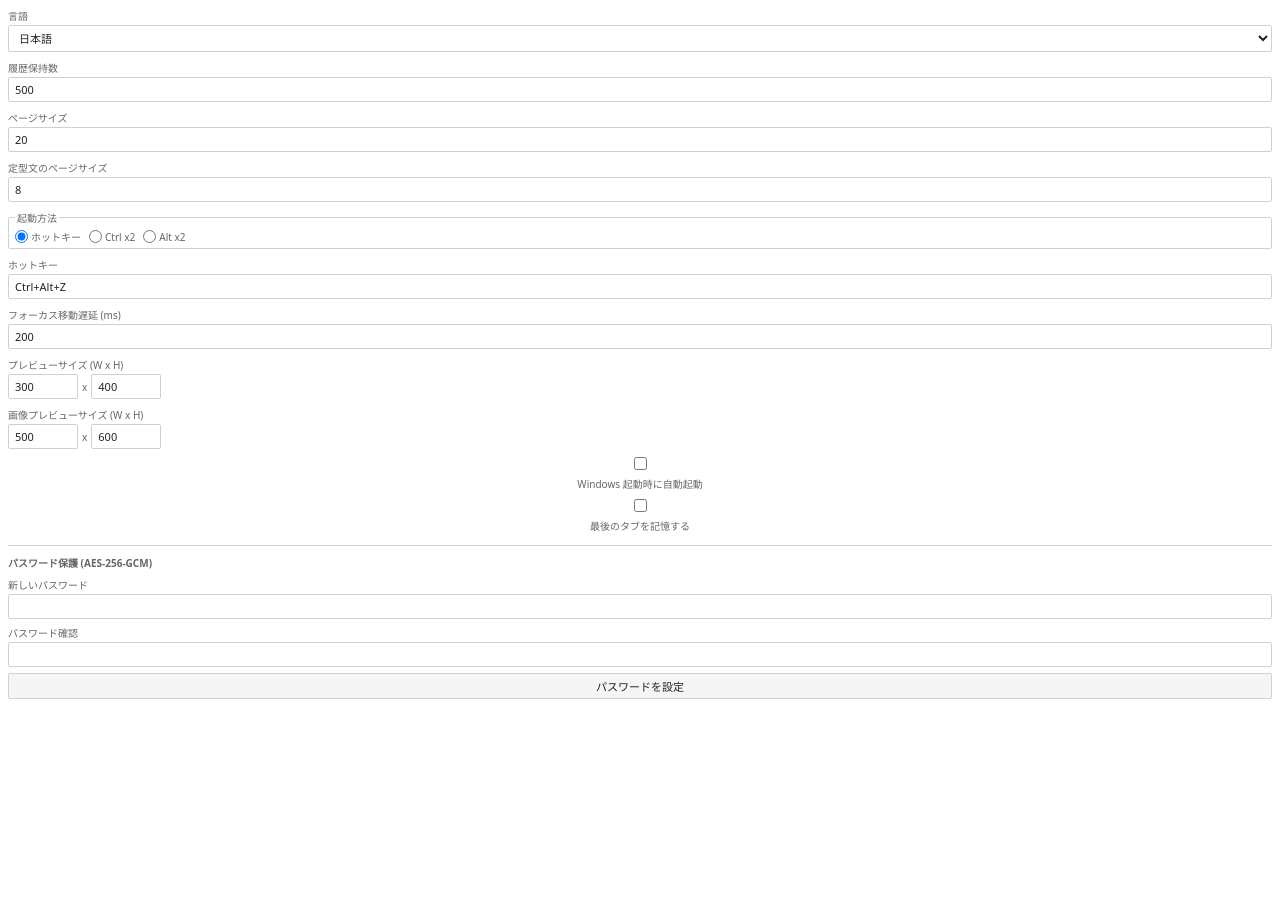
SettingsView › password flow when requirePassword=false › shows error when passwords do not match
The width and height of the screenshot is (1280, 900).
# New password
In the password field labelled "新しいパスワード": [640, 606] box [8,594,1272,619], type "abc123"
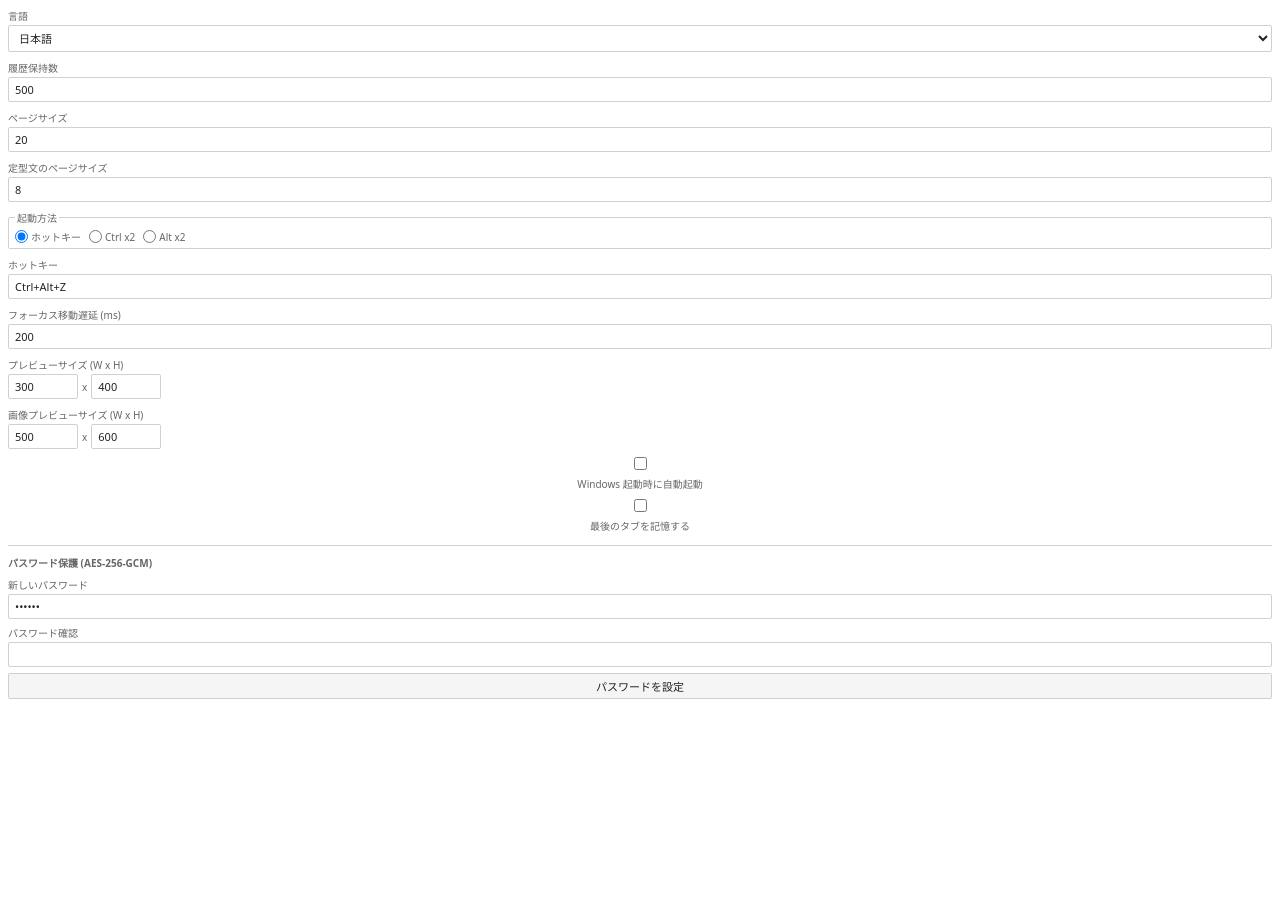
# Confirm password
In the password field labelled "パスワード確認": [640, 654] box [8,642,1272,667], type "different"
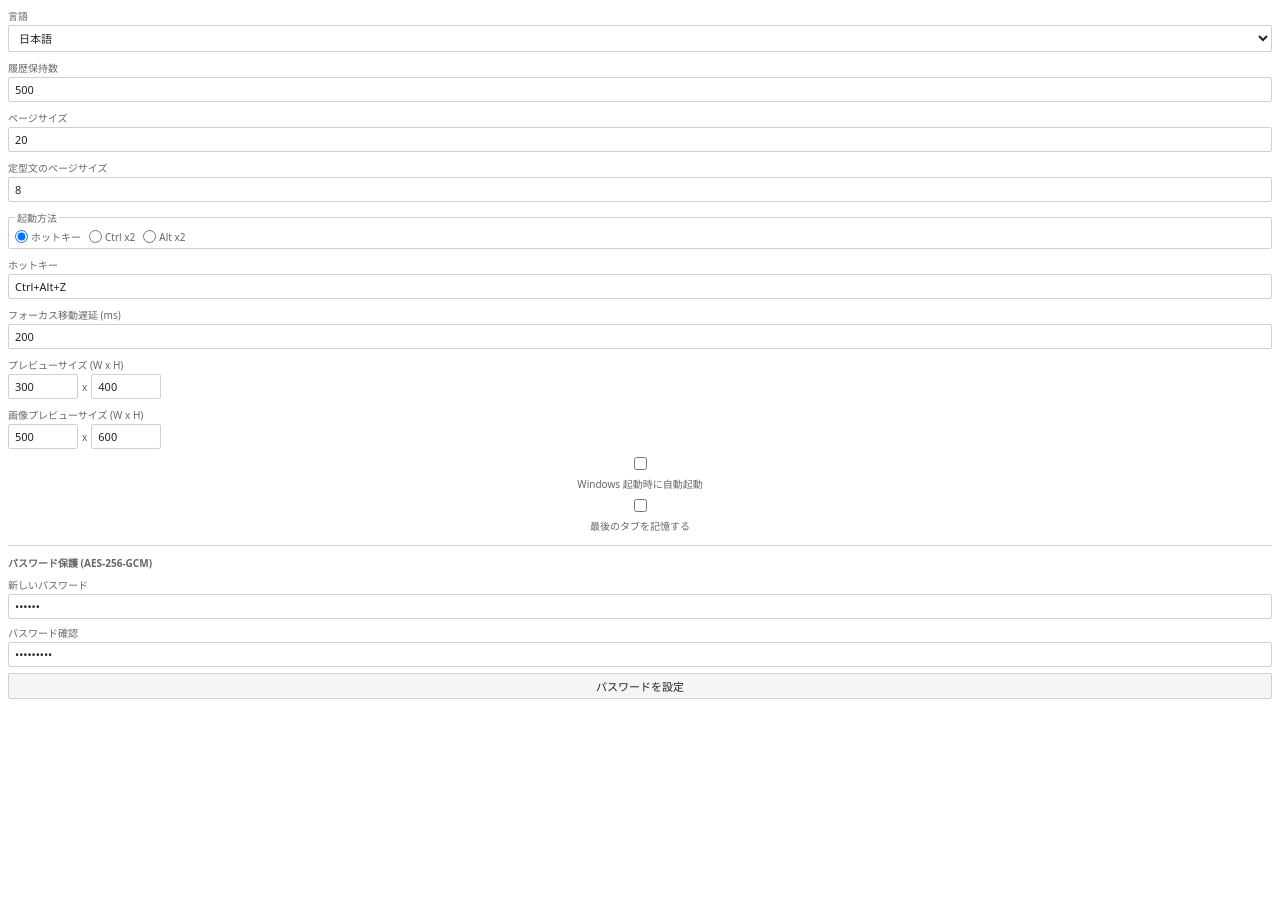
Click the button "パスワードを設定": [640, 686] box [8,673,1272,699]
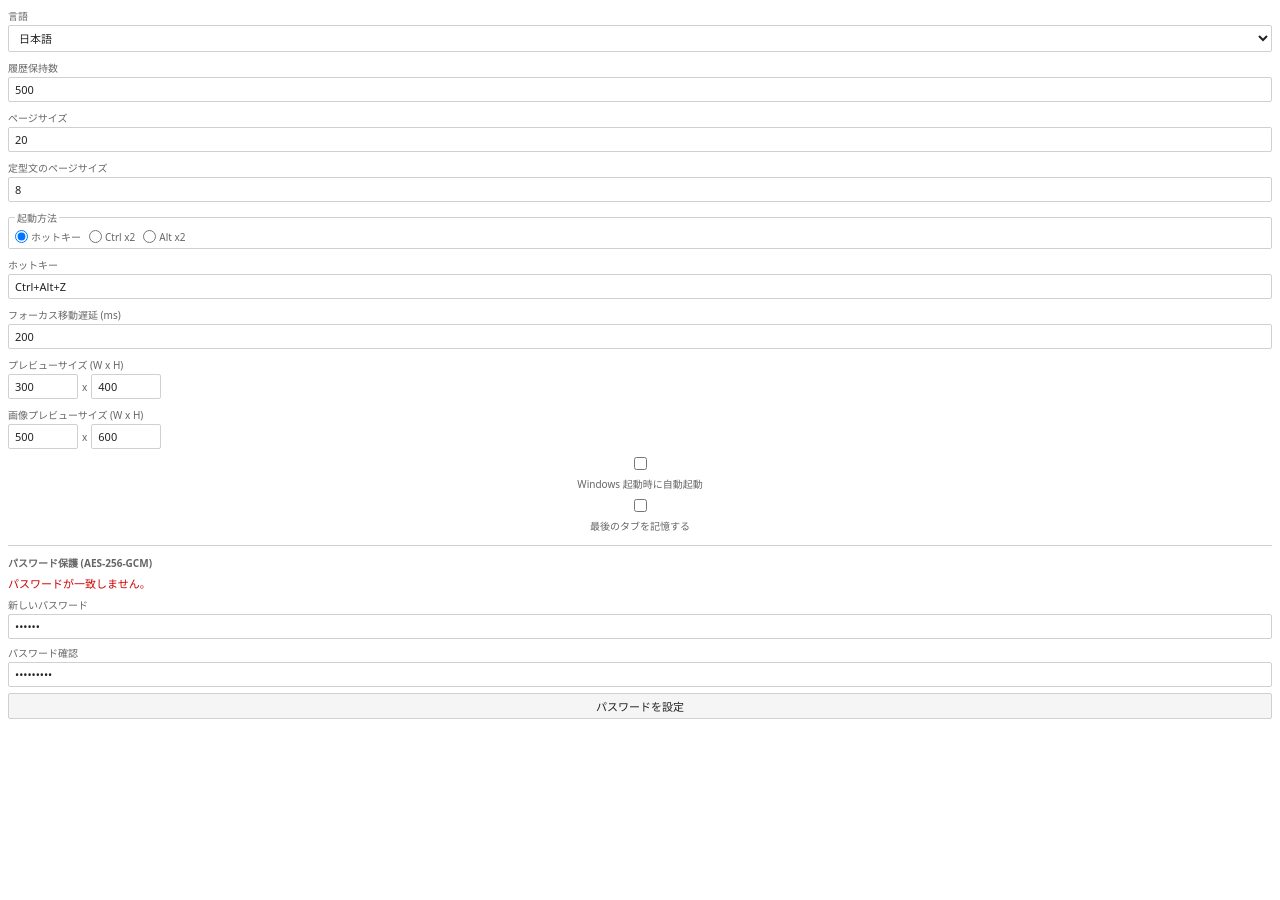
Result: the text "パスワードが一致しません。" is shown at [8,576,151,591]
